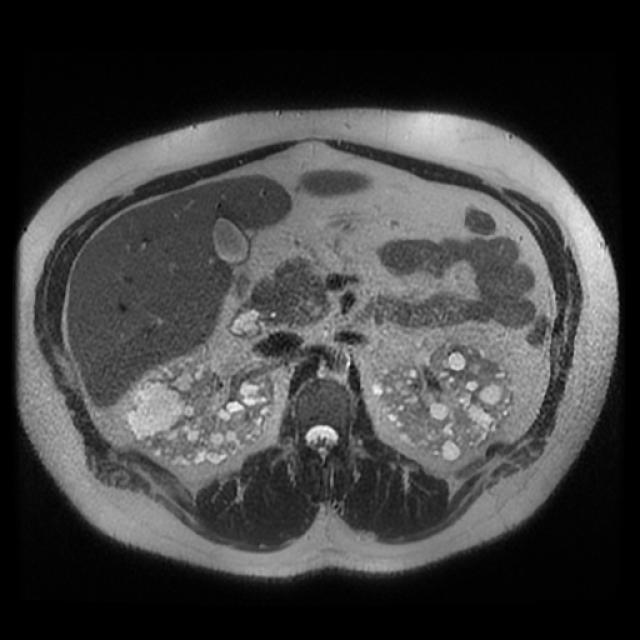sag: (127, 351, 273, 467)
sol: (373, 343, 514, 459)
